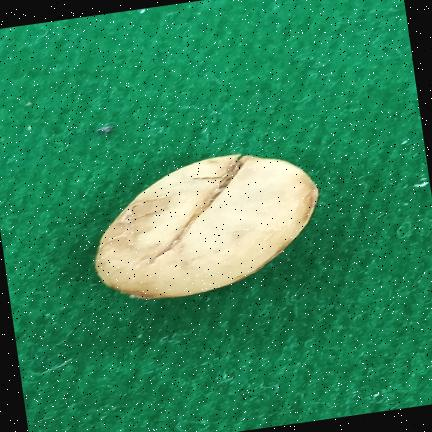parchment: (95, 154, 318, 298)
